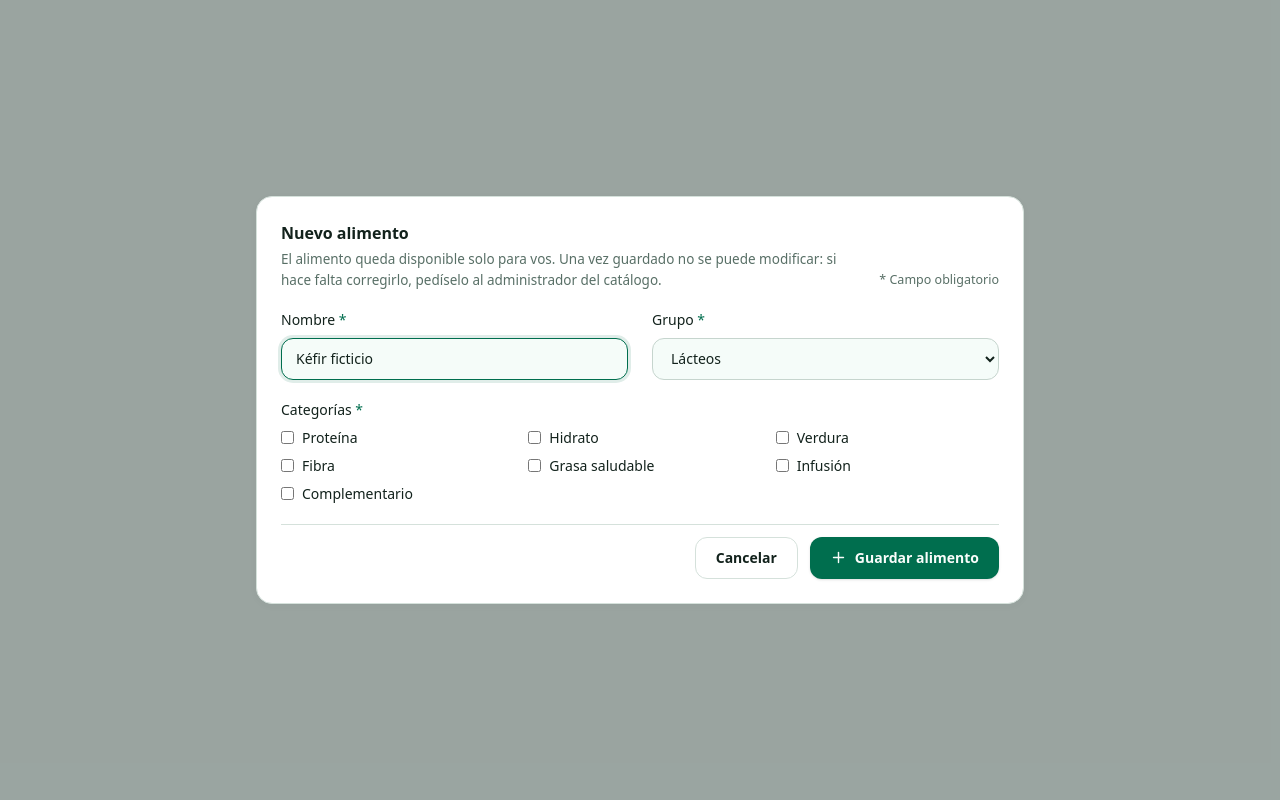
Test case: alta de un alimento desde la receta (T26) › un nombre repetido se muestra en su campo y el modal no se cierra
This screenshot has width=1280, height=800.
Select "Lácteos" in the dropdown labelled "Grupo *": (826, 359) [652,338,999,380]
Click the checkbox labelled "Proteína": (288, 438) [281,431,294,444]
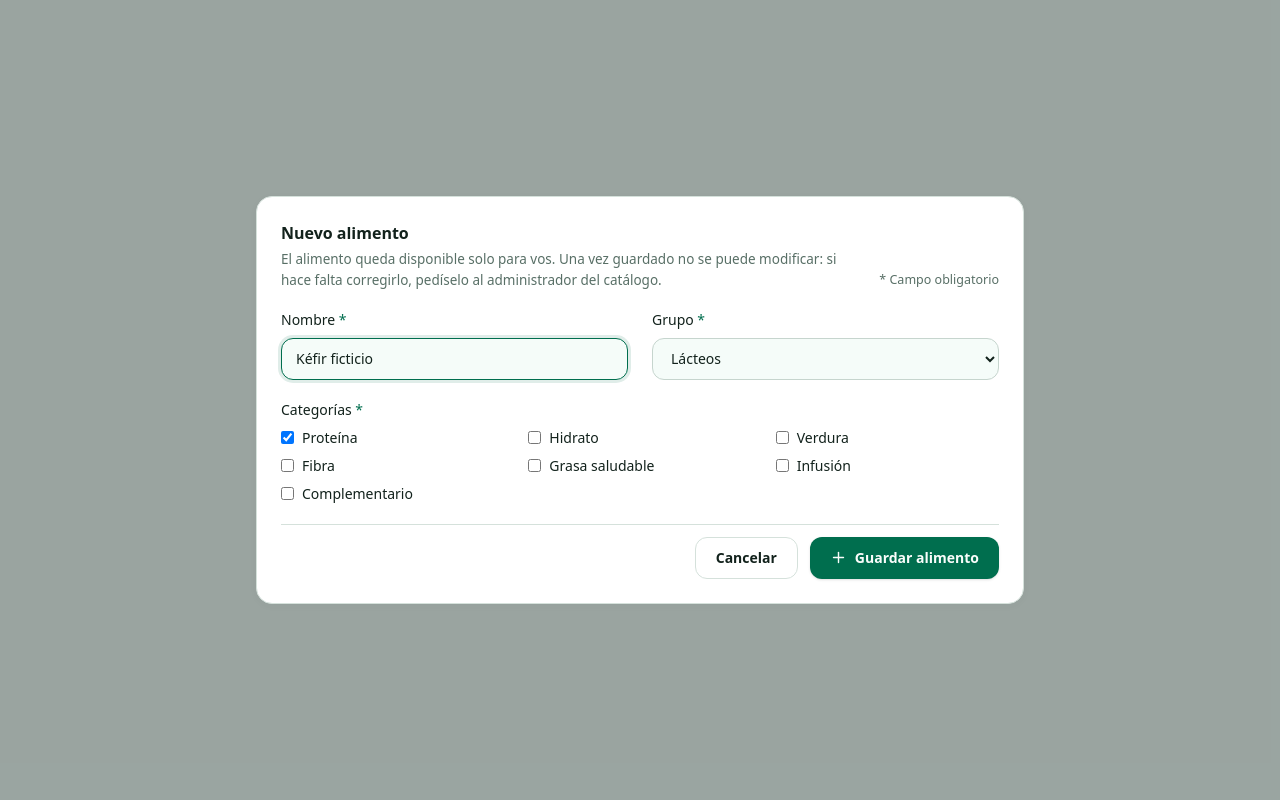
Submit the form, box [281,310,999,579]
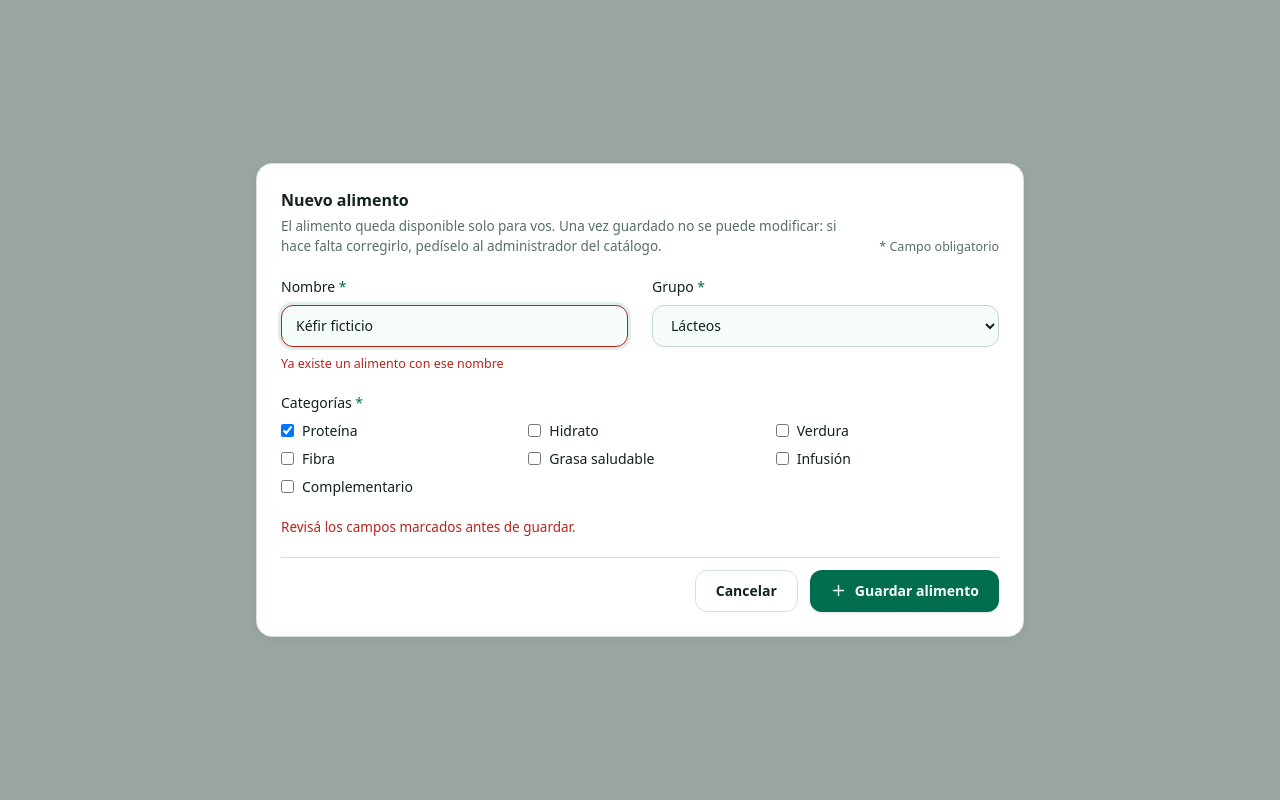
Expected: the submit button is enabled, [810,570,999,612]
Expected: the dialog shows "Ya existe un alimento con ese nombre", [281,355,504,372]
Expected: the message "Revisá los campos marcados antes de guardar." is shown, [281,518,576,536]
